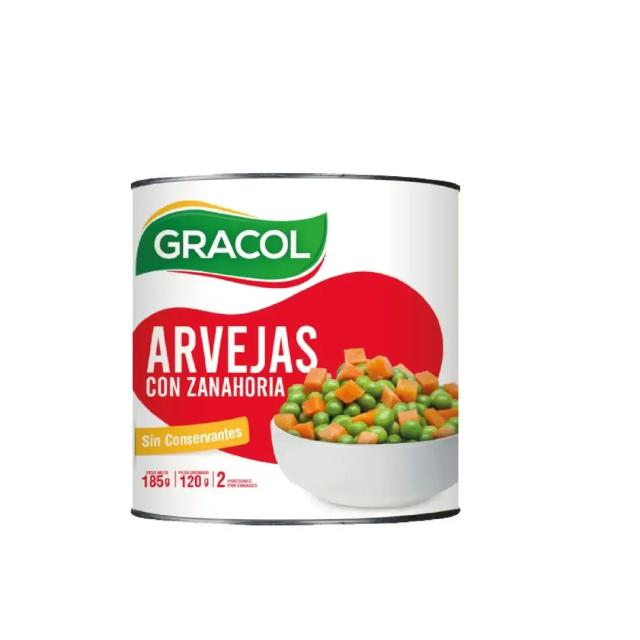arvejas: (298, 371, 452, 440)
